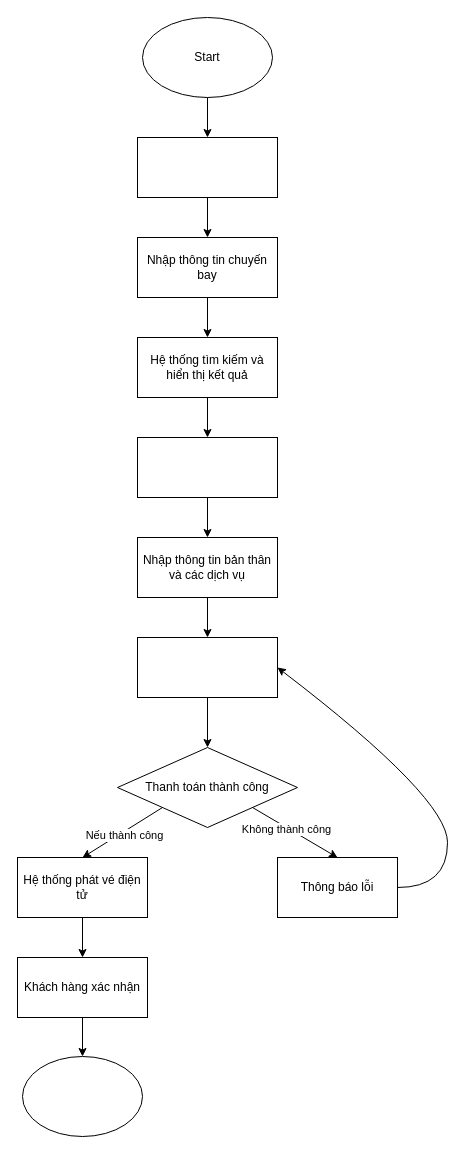
This 465x1154 diagram has some shape labels left out. Each missing label, with the centre of its shape:
"Chọn phương thức thanah toán và thanh toán" belongs at [207,667].
"End" belongs at [82,1096].
"Khách chọn chuyến bay" belongs at [207,467].
"Khách hàng truy cập ứng dụng" belongs at [207,167].
